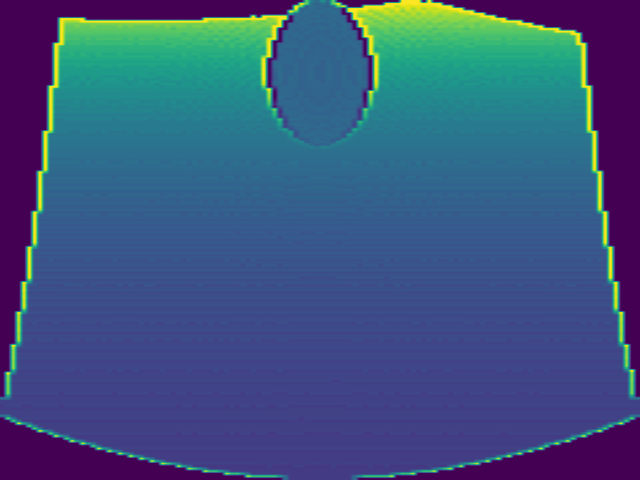sphere: (260, 1, 379, 146)
